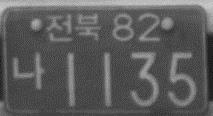1: (64, 50, 78, 108), (100, 50, 114, 108)
2: (137, 11, 161, 42)
3: (129, 51, 158, 107)
5: (167, 49, 197, 108)
8: (112, 11, 135, 42)
나: (11, 50, 46, 90)
전북_O: (43, 12, 101, 44)
